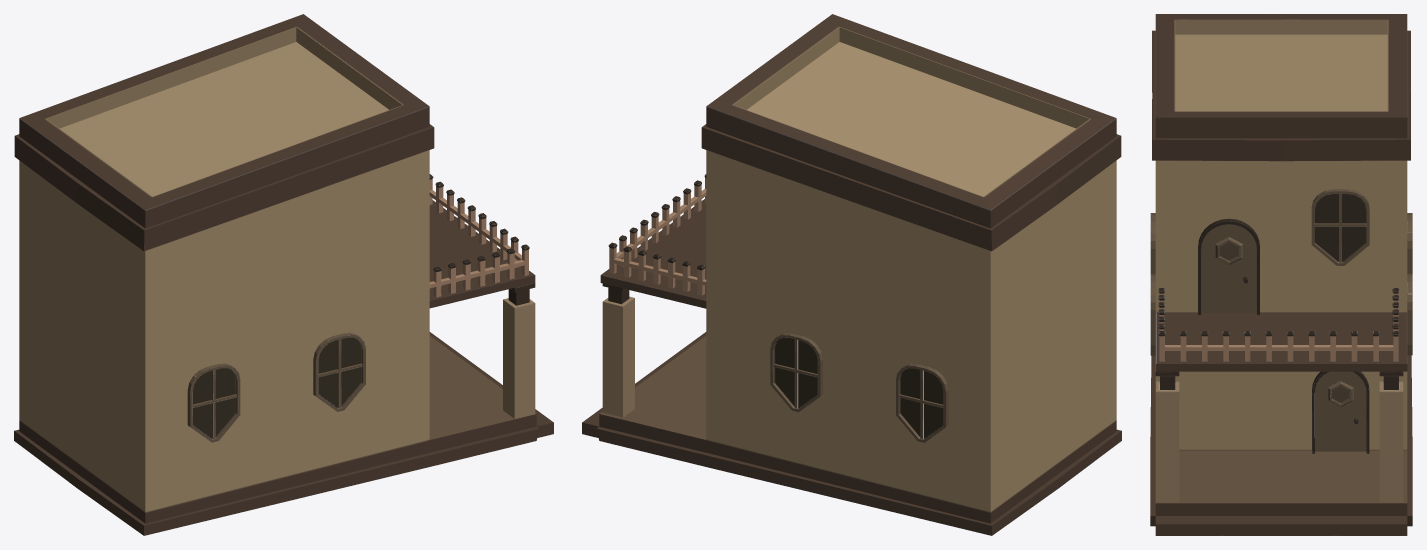
File: WesternStructure1.glb
3 views of the same model, side by side, from view 1: azimuth 30°, elevation 25°; view 2: azimuth 150°, elevation 25°; view 3: azimuth 270°, elevation 25° (orthographic).
Parts seen in each view (by area): view 1: Cube, Cube.003, Cube.001, Cube.009, Cube.010, Cube.005, Cube.007; view 2: Cube, Cube.003, Cube.002, Cube.004, Cube.008, Cube.005, Cube.006; view 3: Cube, Cube.003, Cylinder.001, Cylinder.002, Cube.012, Cube.001, Cube.002, Cube.005, Cube.004, Cube.010, Cube.006, Cube.009 (+1 smaller).
Boxes of the visible parts, bbox=[...] form: Cube: bbox=[14, 14, 553, 535]; Cube.003: bbox=[429, 200, 535, 308]; Cube.001: bbox=[503, 283, 535, 418]; Cube.009: bbox=[187, 363, 240, 442]; Cube.010: bbox=[313, 333, 365, 411]; Cube.005: bbox=[429, 174, 529, 275]; Cube.007: bbox=[429, 248, 524, 297]; Cube: bbox=[582, 14, 1121, 535]; Cube.003: bbox=[600, 199, 706, 308]; Cube.002: bbox=[602, 283, 634, 417]; Cube.004: bbox=[770, 333, 822, 412]; Cube.008: bbox=[896, 363, 948, 442]; Cube.005: bbox=[616, 174, 706, 266]; Cube.006: bbox=[608, 242, 706, 295]; Cube: bbox=[1150, 14, 1412, 535]; Cube.003: bbox=[1156, 312, 1407, 371]; Cylinder.001: bbox=[1198, 218, 1259, 314]; Cylinder.002: bbox=[1312, 371, 1369, 453]; Cube.012: bbox=[1311, 189, 1369, 265]; Cube.001: bbox=[1155, 362, 1179, 502]; Cube.002: bbox=[1379, 371, 1403, 502]; Cube.005: bbox=[1158, 331, 1393, 361]; Cube.004: bbox=[1407, 274, 1412, 355]; Cube.010: bbox=[1150, 274, 1155, 355]; Cube.006: bbox=[1392, 288, 1398, 361]; Cube.009: bbox=[1150, 213, 1155, 274].
Size of what is drawn, in the model's own units: 8.43 by 6.98 by 4.65.
Materials: 9 (9 with a texture image).
